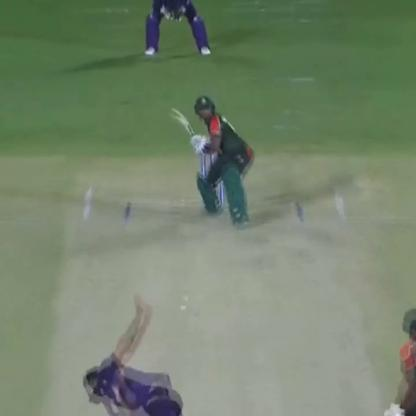ball: (175, 289, 194, 300), (174, 301, 187, 314)
bat: (168, 102, 209, 150)
pitch: (34, 180, 406, 416)
